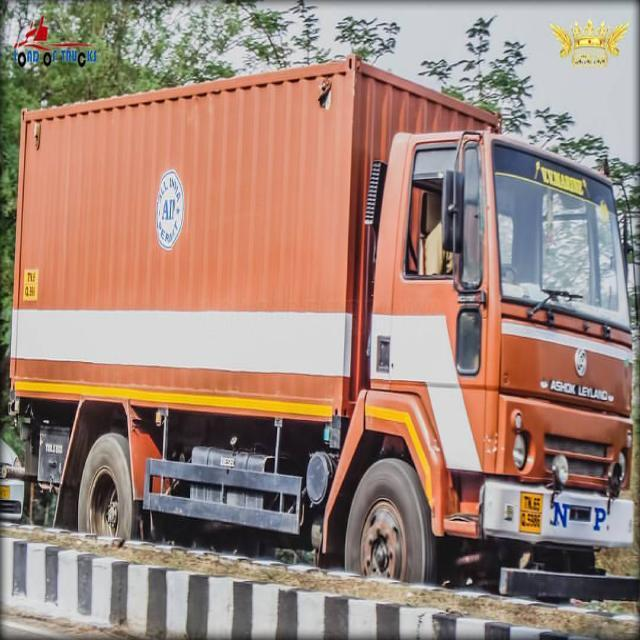Truck: (8, 52, 640, 614)
